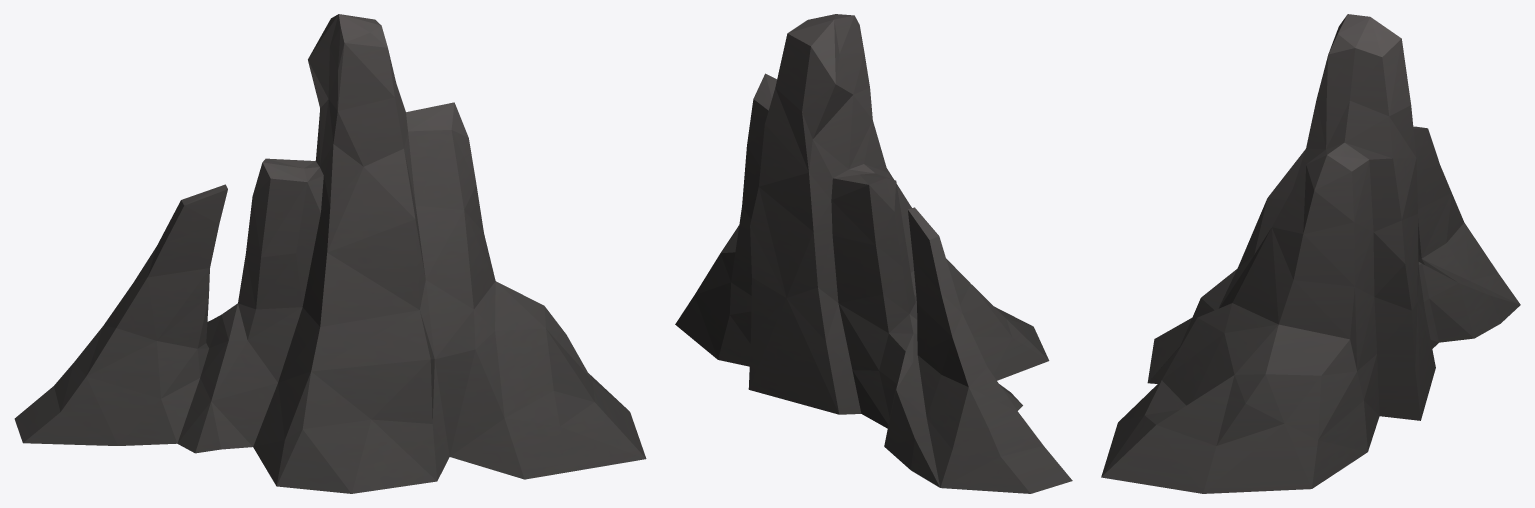
File: ZLP_Rock_D_18.FBX
3 renders of one model, left to right at view 1: azimuth 30°, elevation 25°; view 2: azimuth 150°, elevation 25°; view 3: azimuth 270°, elevation 25°, orthographic. The views are drawn at different scales.
Visible parts, largest first — view 1: ZLP_Rock_D_18; view 2: ZLP_Rock_D_18; view 3: ZLP_Rock_D_18.
Part boxes in pixels (x1,y1,x2,y2): ZLP_Rock_D_18: (14, 14, 646, 493); ZLP_Rock_D_18: (675, 14, 1072, 493); ZLP_Rock_D_18: (1101, 14, 1520, 493).
Bounding box in the file's own units: 347 × 262 × 263.
